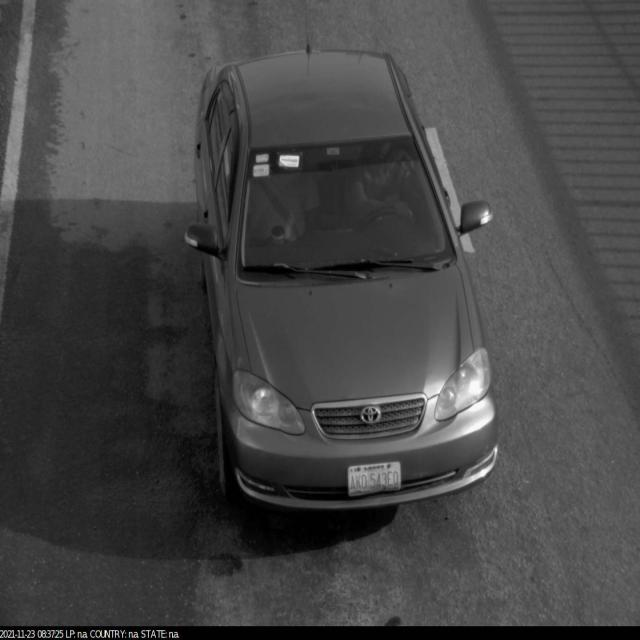windshield: (220, 121, 461, 304)
